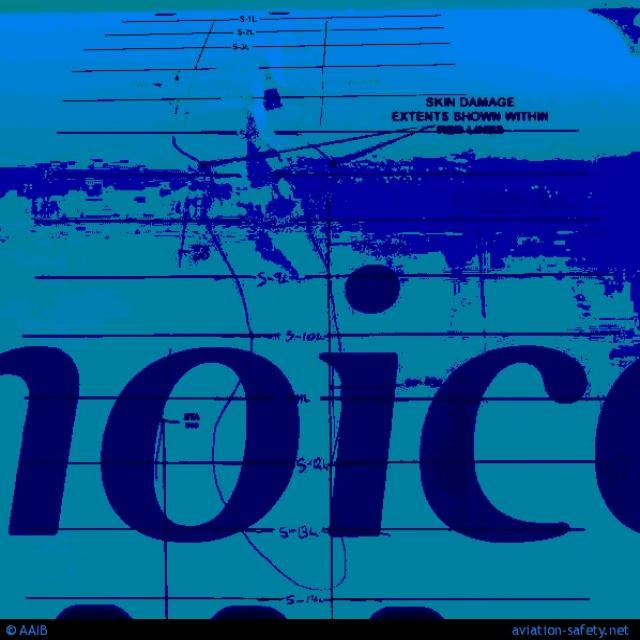dent: (220, 8, 325, 575)
